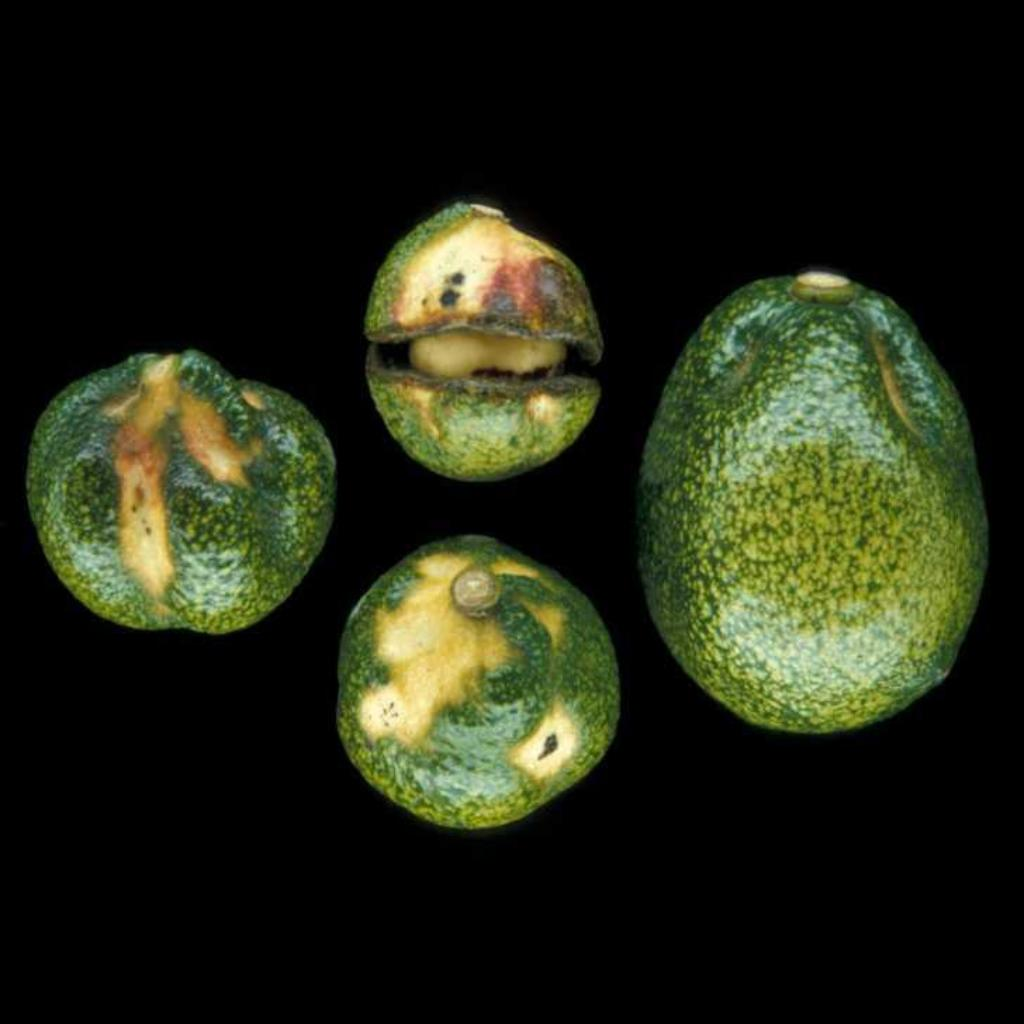Anthracnose: (590, 298, 966, 674), (0, 298, 292, 596), (271, 183, 597, 447), (316, 492, 580, 798)
